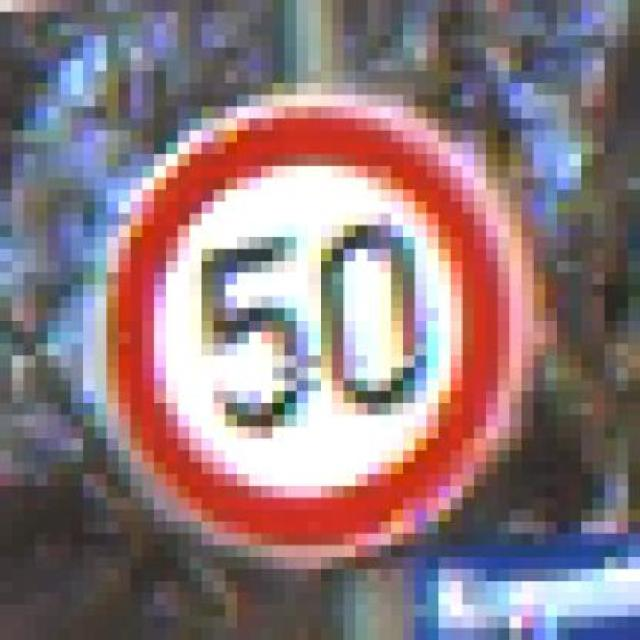50 mph speed limit: (47, 95, 558, 593)
